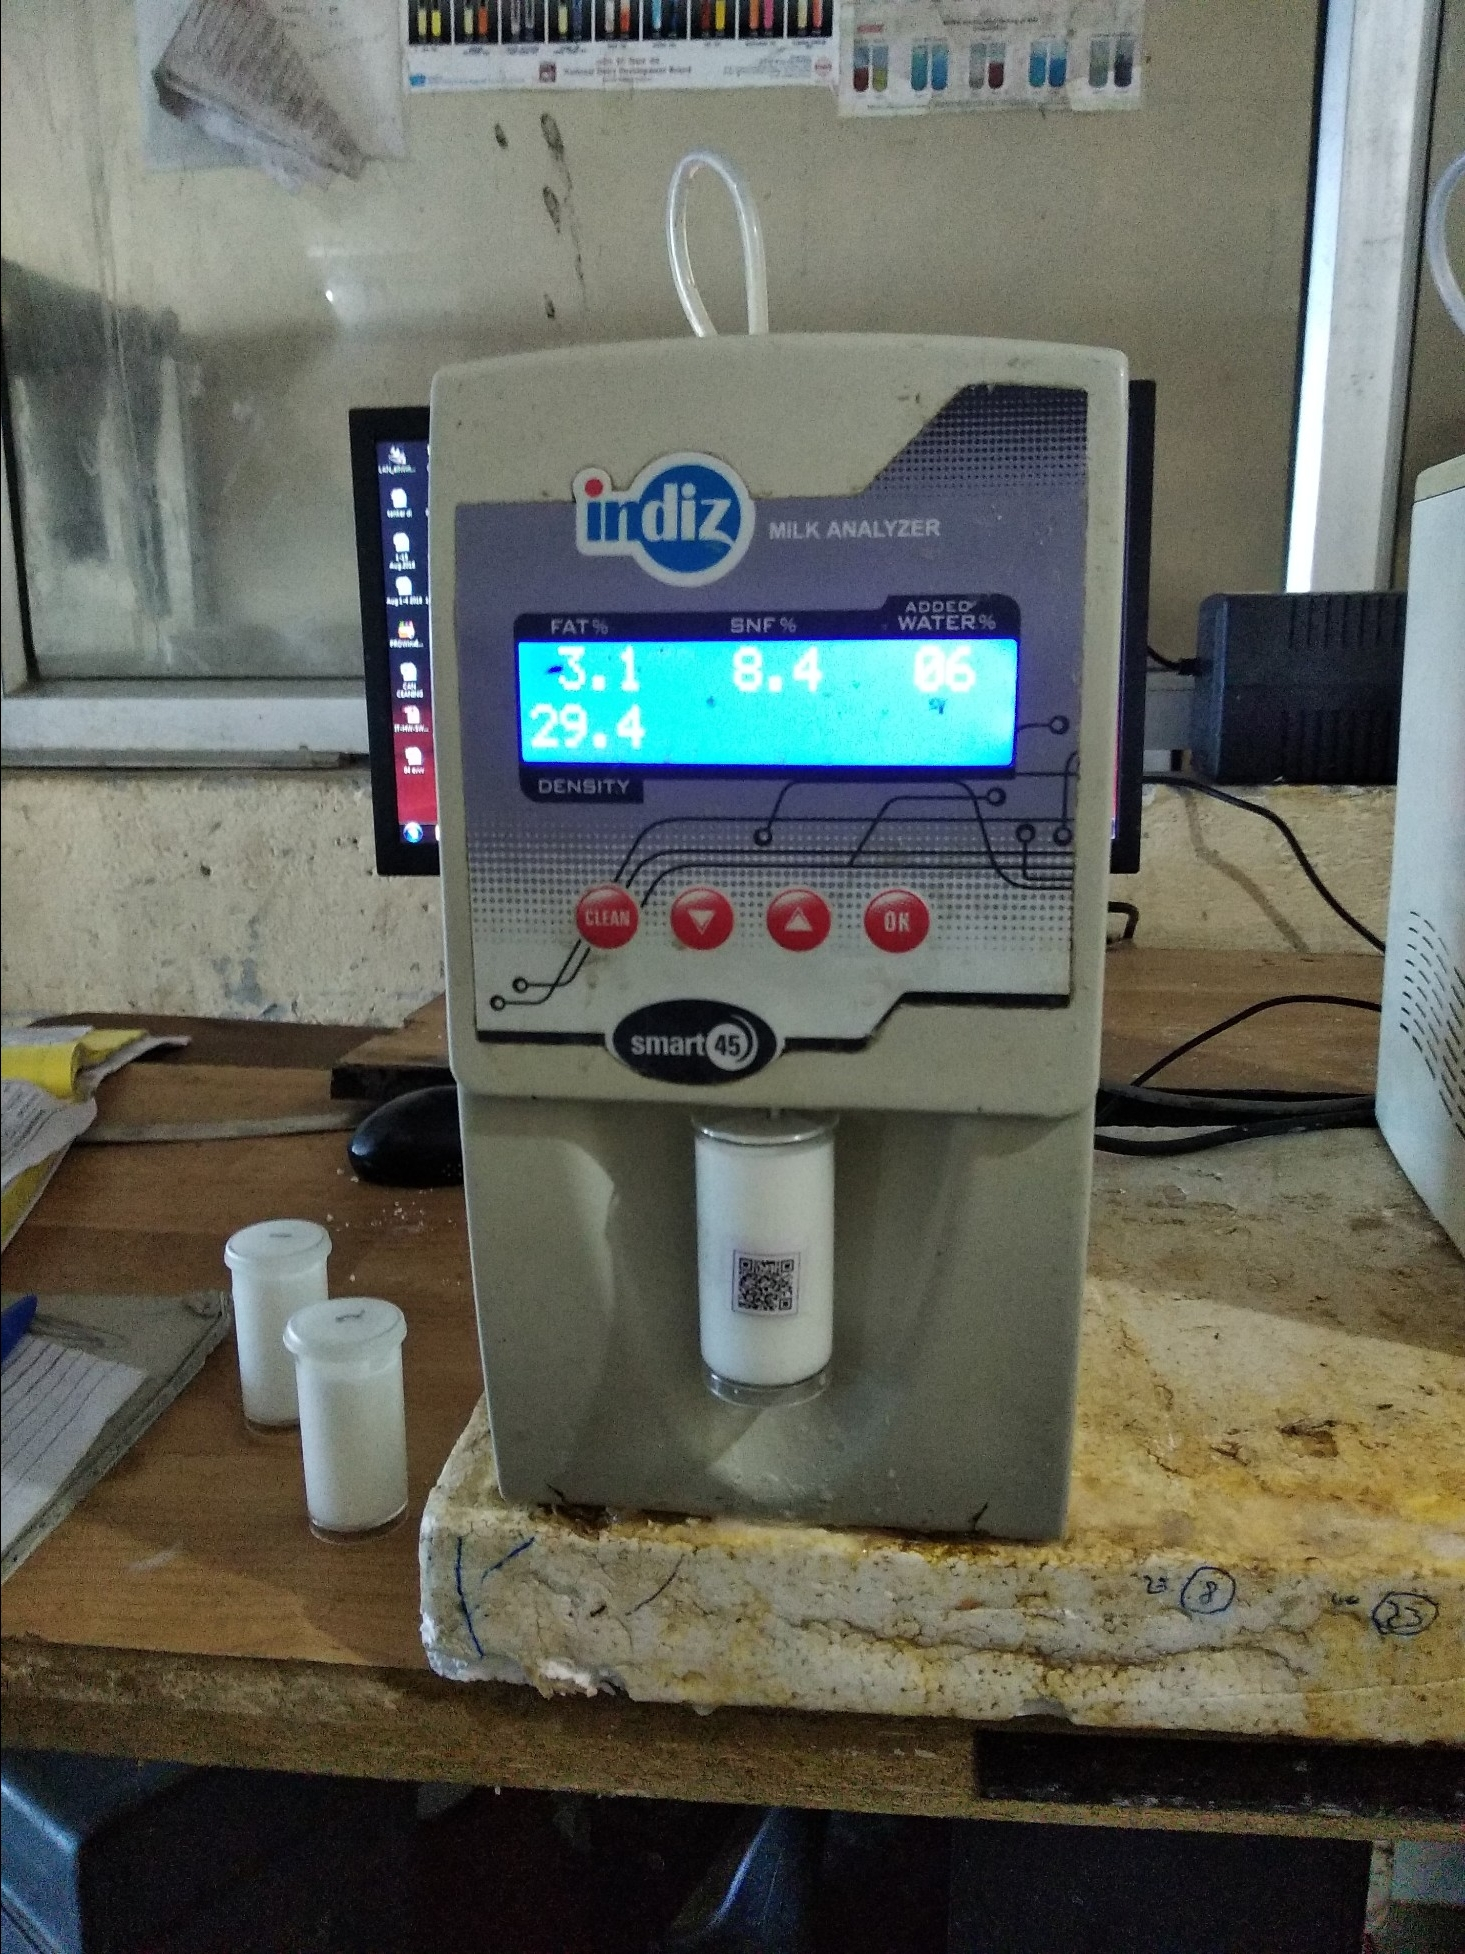lcd: (500, 622, 1042, 788)
qr: (719, 1243, 813, 1331)
